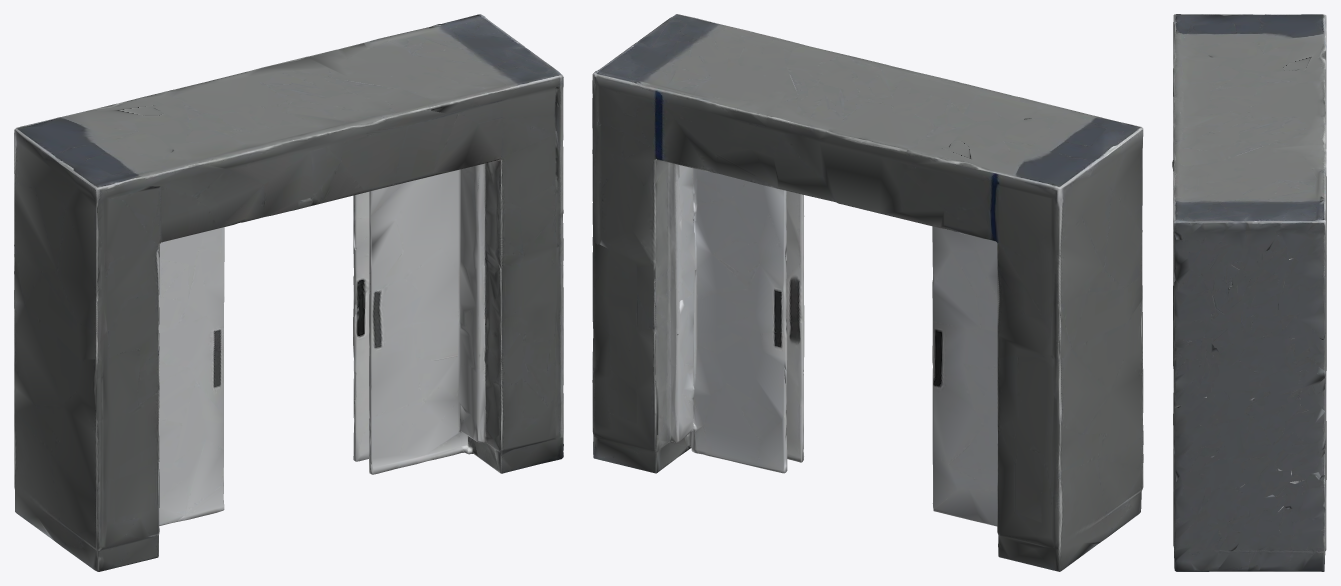
Rendered from elevator.glb.
The picture shows the model from 3 angles, left to right: view 1: azimuth 30°, elevation 25°; view 2: azimuth 150°, elevation 25°; view 3: azimuth 270°, elevation 25°; orthographic projection. The views are drawn at different scales.
Size of the model in its own units: 2.01 by 1.59 by 0.6309.
1 material, 1 textured.
